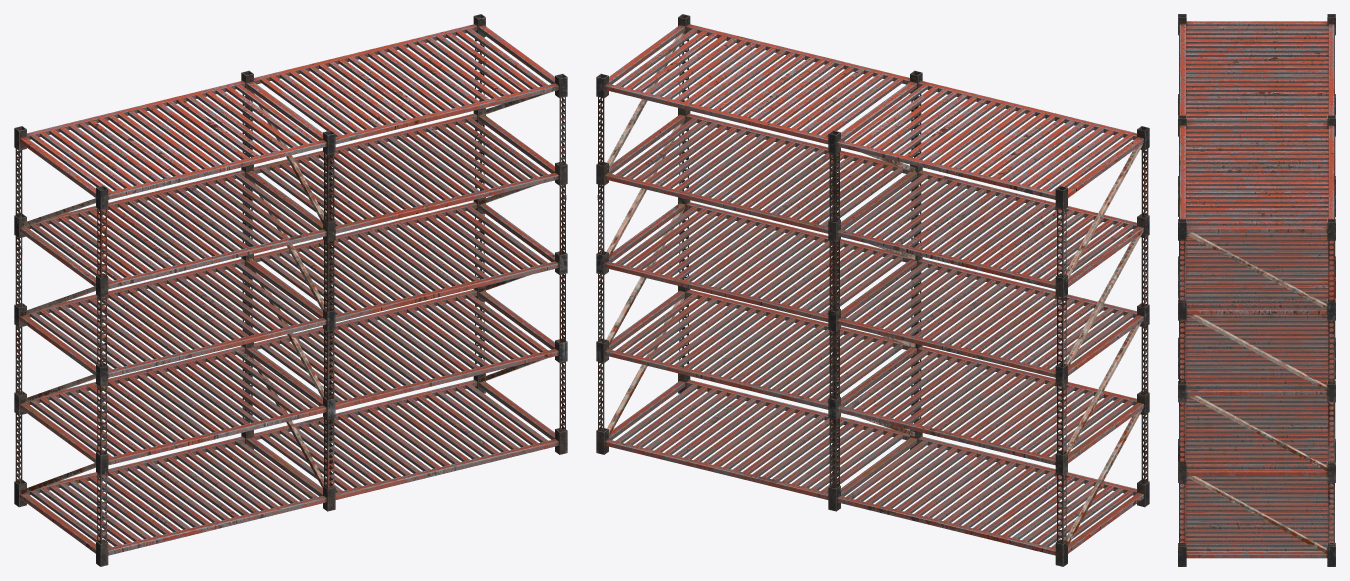
File: Almari.fbx
3 renders of one model, left to right at view 1: azimuth 30°, elevation 25°; view 2: azimuth 150°, elevation 25°; view 3: azimuth 270°, elevation 25°, orthographic. The views are drawn at different scales.
Visible parts, largest first — view 1: polySurface109; view 2: polySurface109; view 3: polySurface109.
Boxes of the visible parts, <box> form: polySurface109: <box>14,14,567,566</box>; polySurface109: <box>596,14,1149,566</box>; polySurface109: <box>1178,14,1335,566</box>.
Size of the model in its own units: 431 by 332 by 138.
Materials: 1 (1 with a texture image).
